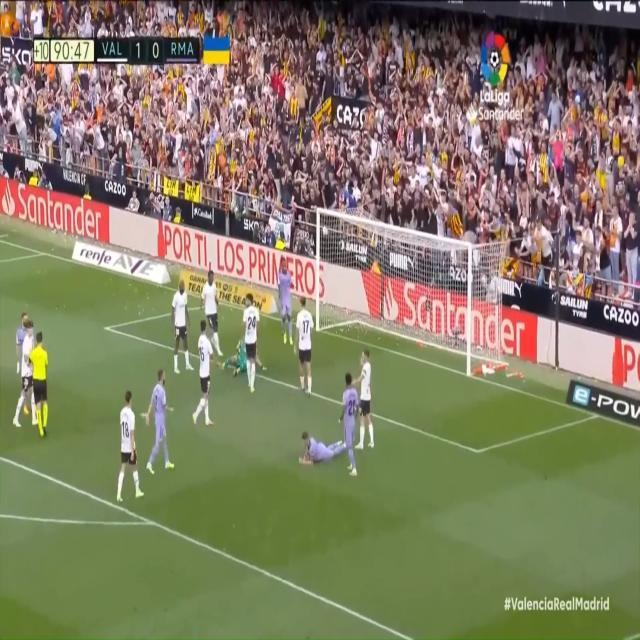goalkeeper: (217, 330, 259, 379)
player: (145, 367, 176, 476), (12, 319, 39, 436), (115, 390, 141, 505), (353, 342, 377, 453), (191, 319, 214, 432), (339, 371, 362, 475), (294, 295, 315, 396), (199, 270, 221, 363), (172, 279, 192, 376), (299, 430, 350, 467), (275, 257, 295, 348), (243, 291, 260, 397), (13, 312, 32, 372)
referee: (28, 326, 50, 446)
